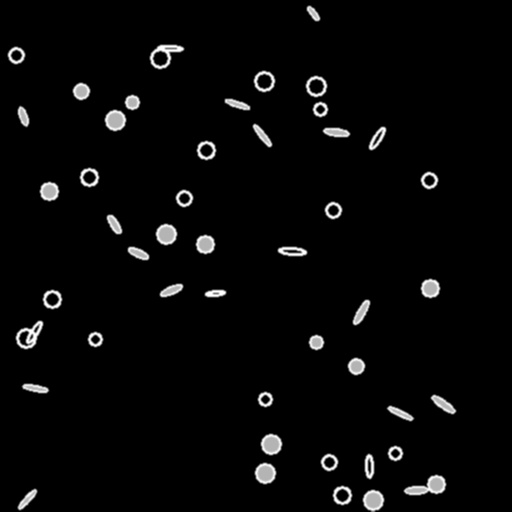pseudomonas: (351, 299, 371, 325), (430, 394, 456, 414), (252, 123, 272, 147), (17, 488, 37, 510), (368, 126, 386, 150), (25, 320, 43, 344), (387, 405, 413, 421), (105, 213, 123, 235), (224, 98, 250, 110), (160, 283, 182, 297), (127, 246, 149, 260), (323, 127, 349, 137), (22, 383, 48, 393), (306, 5, 320, 21), (17, 107, 29, 125), (279, 247, 305, 255), (405, 486, 427, 494), (366, 454, 372, 478), (158, 45, 182, 51), (205, 290, 225, 296)
synechocystis: (106, 111, 124, 129), (151, 49, 169, 67), (262, 435, 280, 453), (255, 72, 273, 90), (17, 329, 35, 347), (256, 464, 274, 482), (307, 77, 325, 95), (364, 491, 382, 509), (157, 225, 175, 243), (198, 142, 214, 158), (81, 169, 97, 185), (428, 476, 444, 492), (197, 236, 213, 252), (422, 280, 438, 296), (44, 291, 60, 307), (41, 183, 57, 199), (334, 487, 350, 503), (349, 359, 363, 373), (74, 84, 88, 98), (326, 203, 340, 217), (9, 48, 23, 62), (322, 455, 336, 469), (422, 173, 436, 187), (177, 191, 191, 205), (259, 393, 271, 405), (310, 336, 322, 348), (126, 96, 138, 108), (314, 103, 326, 115), (89, 333, 101, 345), (389, 447, 401, 459)
